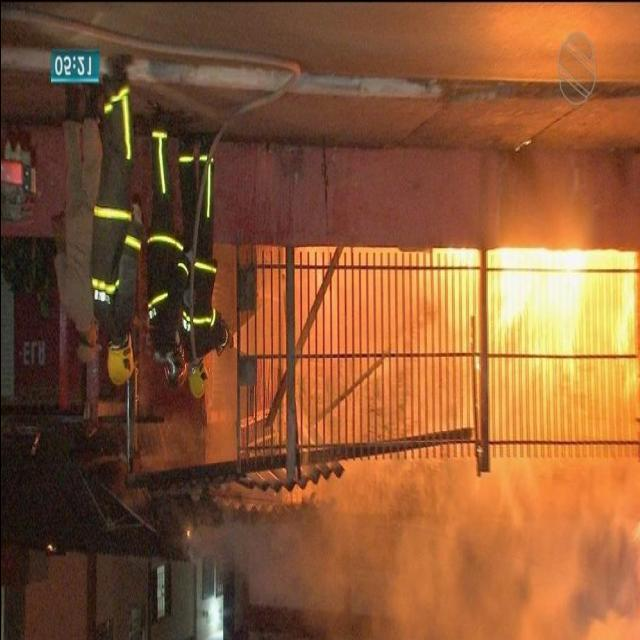Fire: (442, 245, 636, 382)
